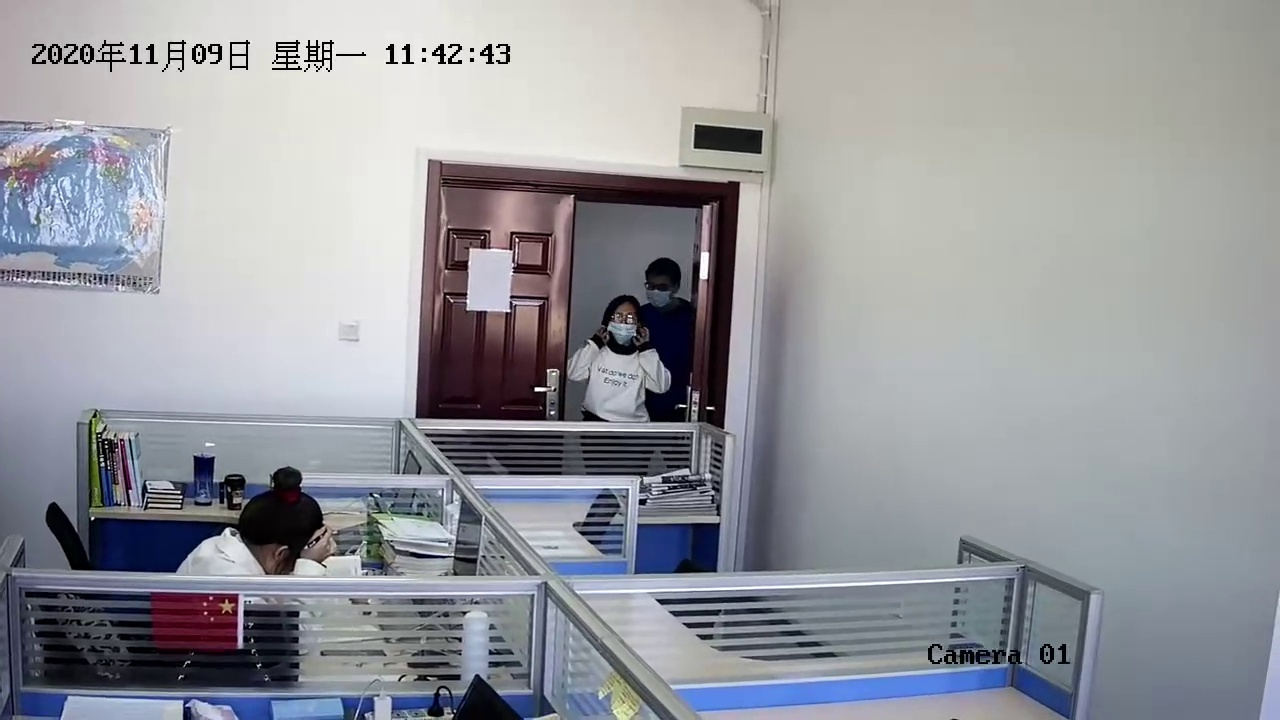mask: (600, 297, 645, 354), (644, 258, 681, 308)
